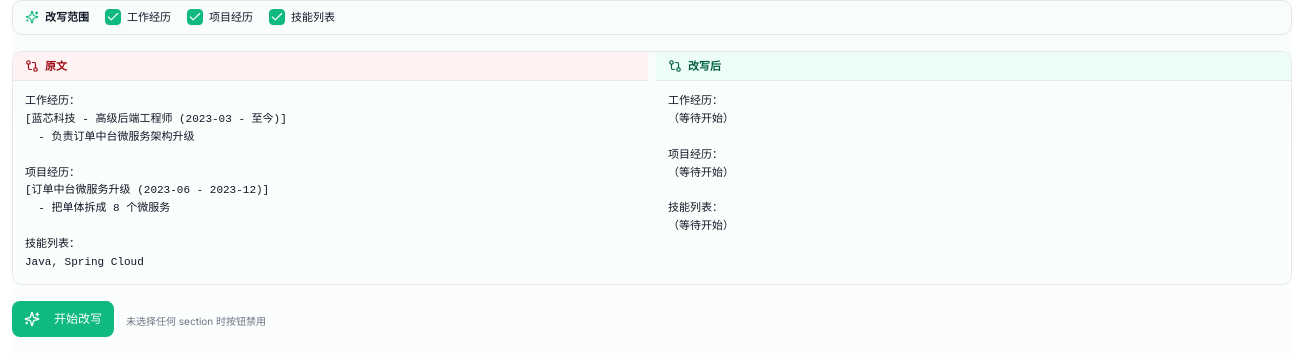
Test: StarRewritePanel › aggregates SSE chunks and updates the right pane incrementally
Click the button "开始改写".
click(63, 319)  # box [12,301,114,337]
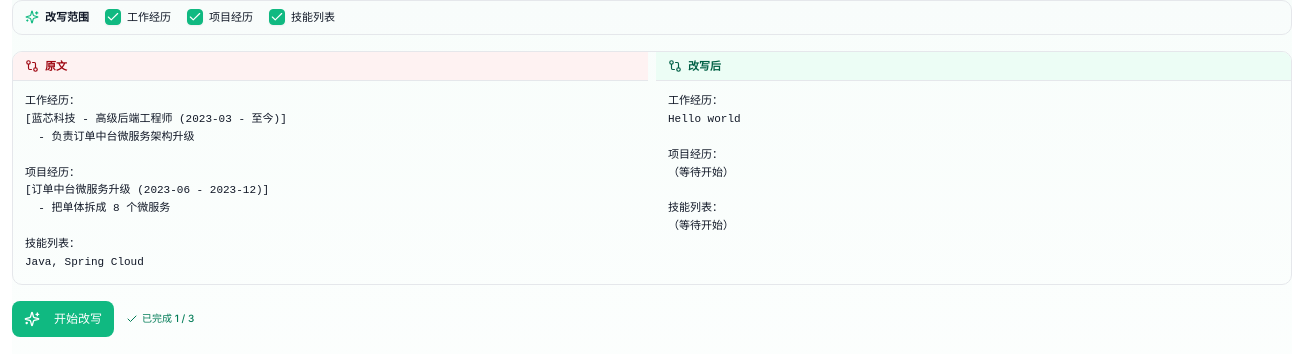
Check: the text "工作经历： Hello world 项目经历： （等待开始） 技能列表： （等待开始）" is shown, box [668,95,741,232]
